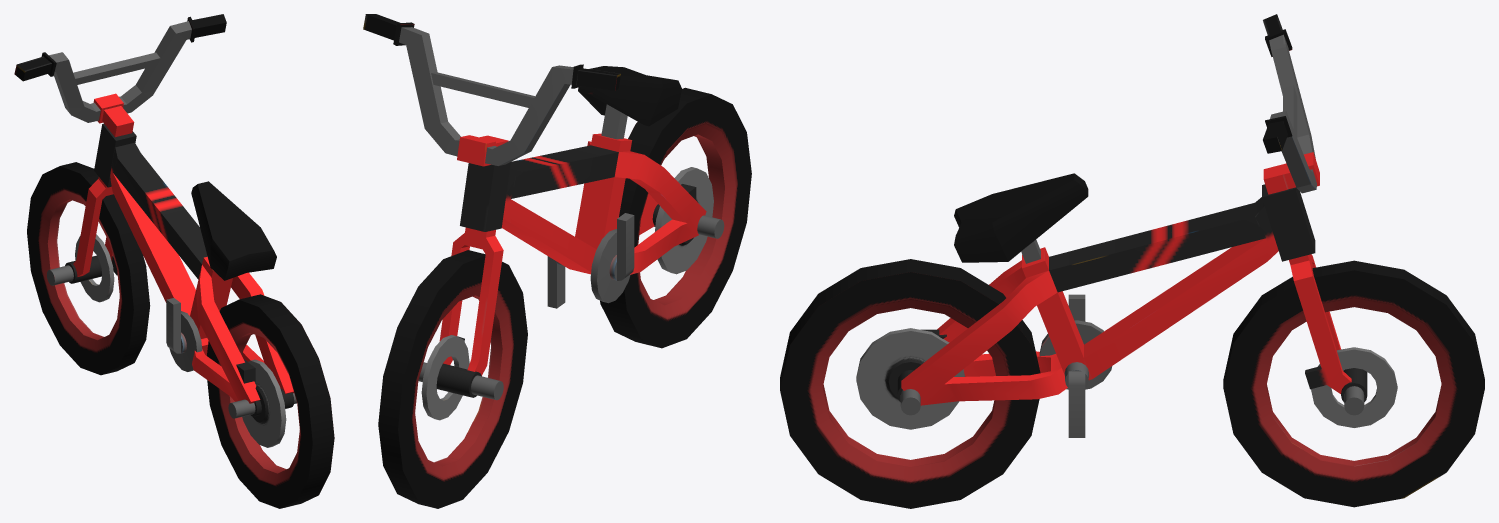
Rendered from bmx.glb.
The picture shows the model from 3 angles, left to right: view 1: azimuth 30°, elevation 25°; view 2: azimuth 150°, elevation 25°; view 3: azimuth 270°, elevation 25°; orthographic projection. The views are drawn at different scales.
Parts seen in each view (by area): view 1: body-0, wheel-back-x, wheel-front-x, body-1, body-3; view 2: wheel-front-x, body-0, wheel-back-x, body-1, body-3; view 3: body-0, wheel-back-x, wheel-front-x, body-1, body-3.
Part boxes in pixels (x1=…): body-0: x1=94, y1=123, x2=294, y2=403; wheel-back-x: x1=207, y1=294, x2=334, y2=508; wheel-front-x: x1=27, y1=162, x2=150, y2=375; body-1: x1=14, y1=14, x2=226, y2=276; body-3: x1=166, y1=298, x2=202, y2=371; wheel-front-x: x1=378, y1=250, x2=527, y2=508; body-0: x1=460, y1=66, x2=706, y2=274; wheel-back-x: x1=600, y1=87, x2=751, y2=348; body-1: x1=363, y1=14, x2=620, y2=375; body-3: x1=547, y1=213, x2=634, y2=308; body-0: x1=901, y1=173, x2=1315, y2=405; wheel-back-x: x1=780, y1=259, x2=1040, y2=508; wheel-front-x: x1=1223, y1=260, x2=1484, y2=507; body-1: x1=1263, y1=14, x2=1351, y2=393; body-3: x1=1039, y1=294, x2=1112, y2=437.
Size of the model in its own units: 0.9542 by 1.55 by 2.3.
Materials: 5 (5 with a texture image).
